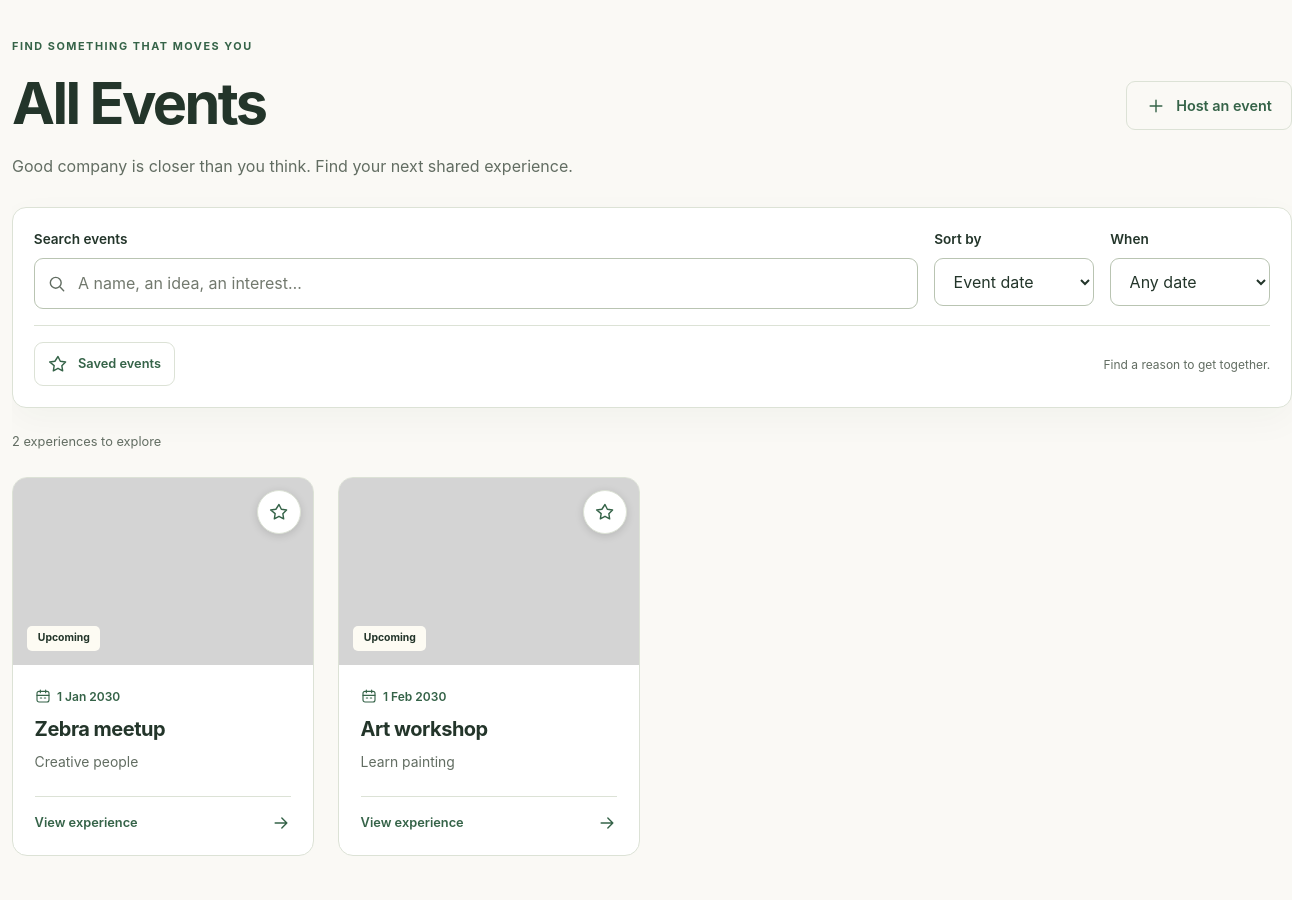
Test case: sorts a copy of the event collection by name
Select "Name A–Z" in the dropdown labelled "Sort by". click: x=1014, y=282
box: [934, 258, 1094, 306]
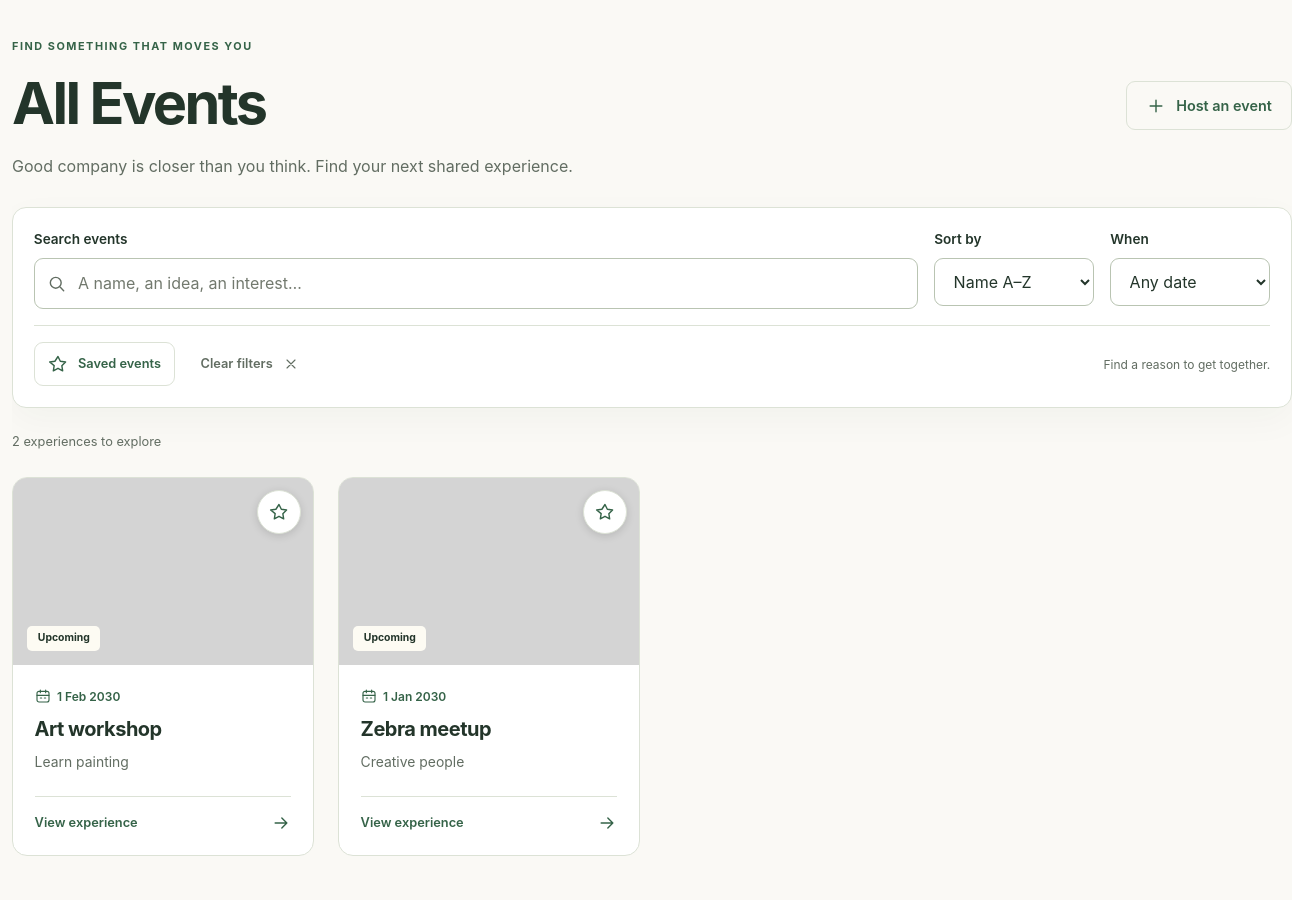
Expected: the heading "Zebra meetup" is shown, [361, 717, 491, 741]
Now the headings read "Art workshop", "Zebra meetup", in this order, box [35, 717, 162, 741]; [361, 717, 491, 741]
